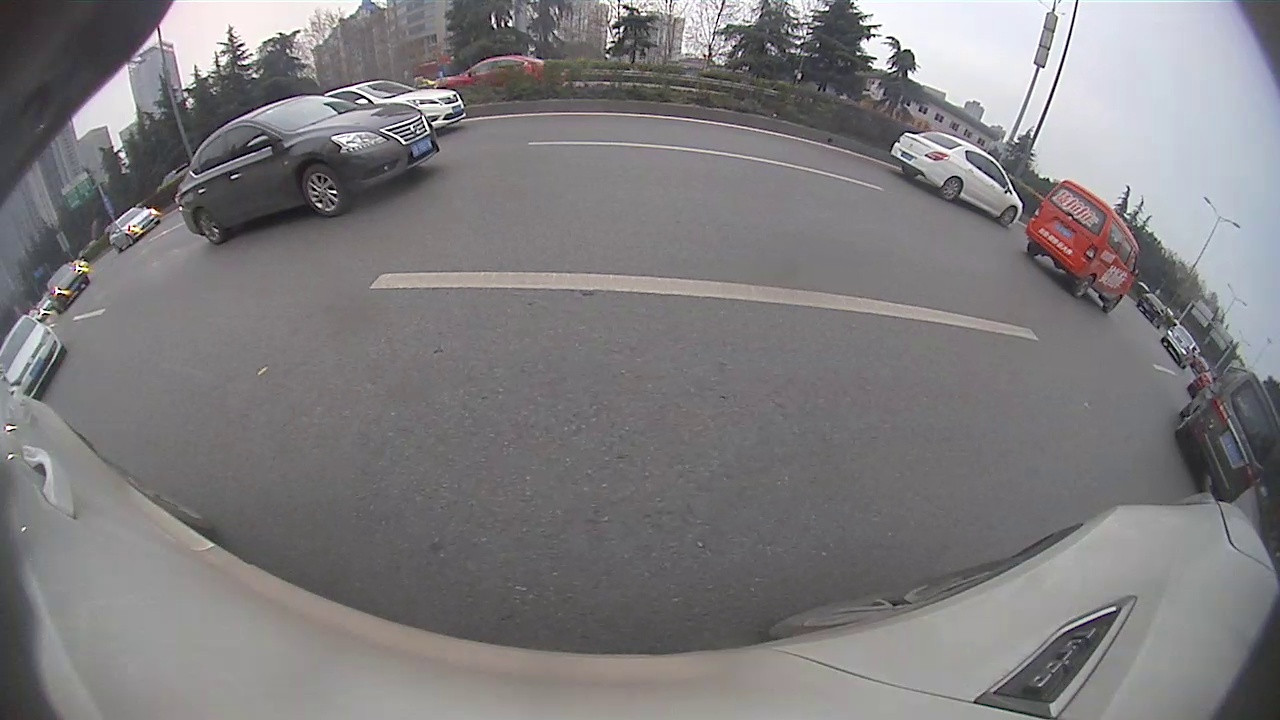car: (171, 93, 441, 245), (1025, 180, 1143, 315), (1175, 366, 1279, 503), (891, 128, 1023, 229), (1, 313, 64, 400), (1157, 323, 1197, 368), (1137, 294, 1168, 328)
front: (299, 161, 348, 219), (997, 206, 1018, 228), (1103, 295, 1123, 317)
rear: (194, 207, 226, 250), (940, 176, 963, 203), (1072, 278, 1093, 299)
